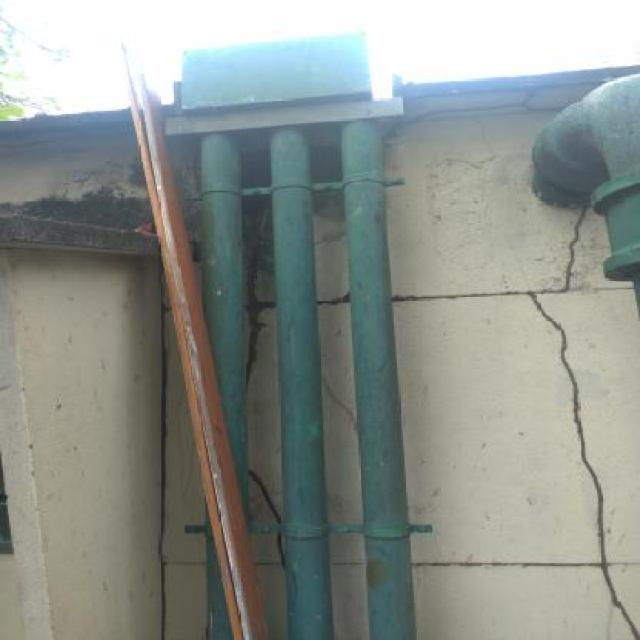gas: (341, 117, 421, 640), (266, 129, 336, 640), (185, 136, 248, 438)
